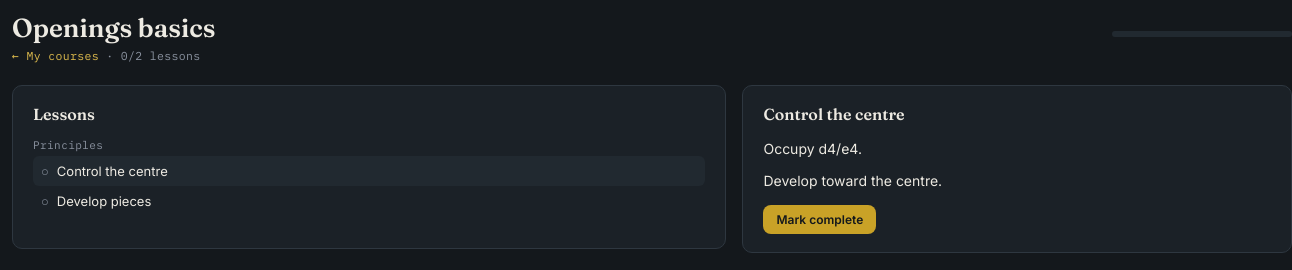
CoursePlayerPage › switches lessons from the sidebar
Check: the text "Control the centre" is shown, box [763,104,905,124]
Click the button "○ Develop pieces": (104, 201) [33,186,705,216]
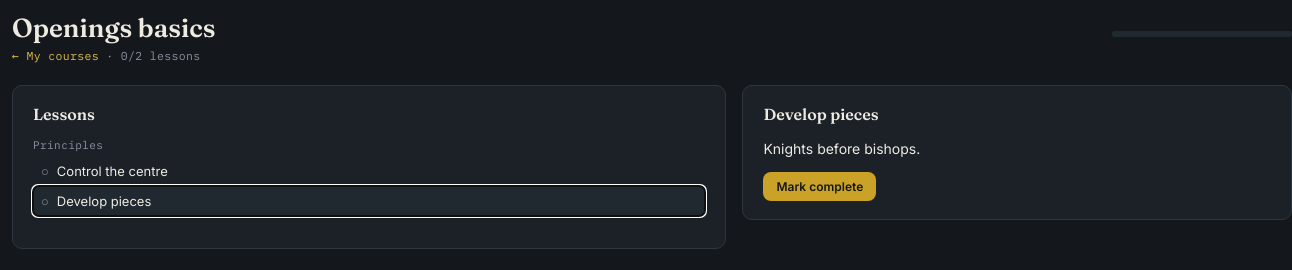
Check: the text "Knights before bishops." is shown, box [763,140,920,157]
